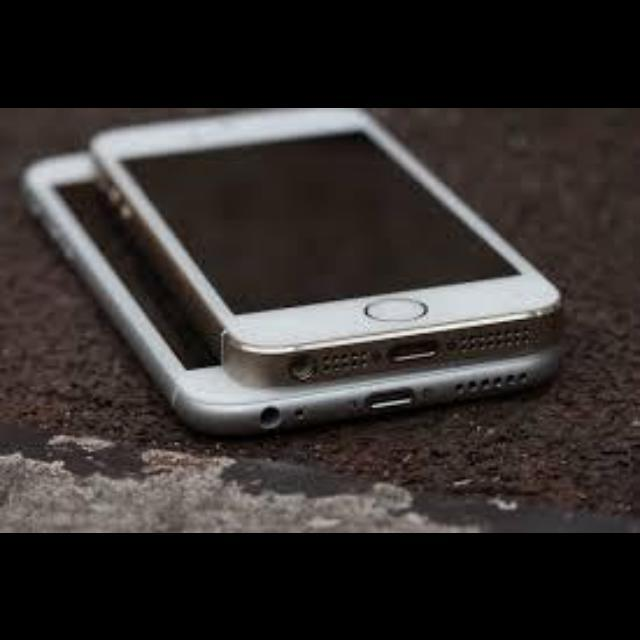Phone: (20, 150, 562, 432), (91, 108, 568, 386)
